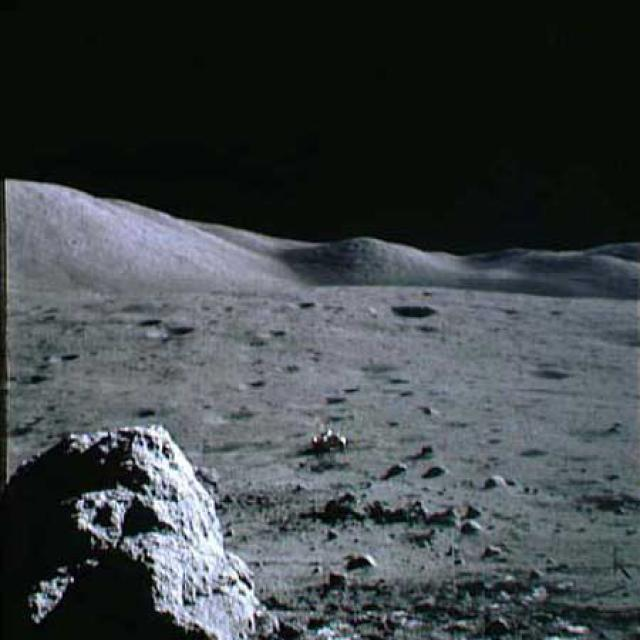artifact: (300, 412, 354, 458)
crater: (388, 298, 440, 327), (141, 316, 197, 342), (28, 346, 83, 366), (2, 369, 48, 392), (526, 362, 570, 385)
rock: (1, 419, 301, 639), (412, 497, 464, 536), (326, 485, 365, 524), (368, 497, 416, 527), (338, 544, 376, 572)
